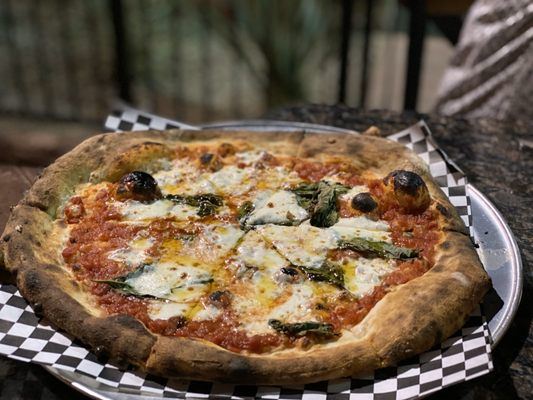sandwich: (0, 127, 490, 386)
